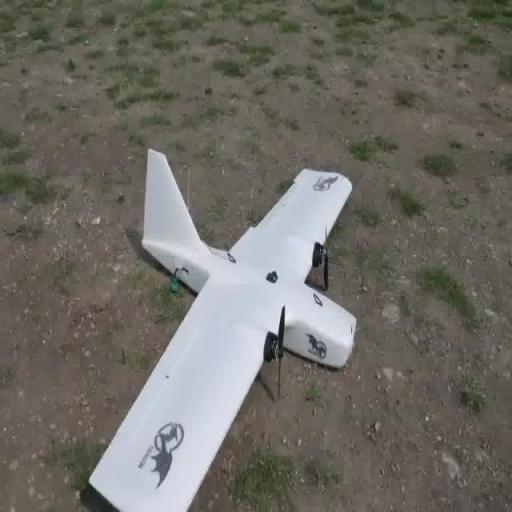uav: (84, 141, 362, 512)
